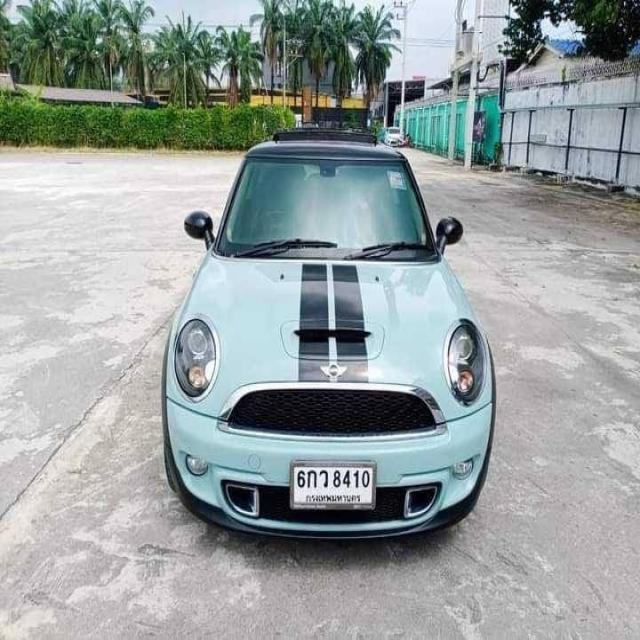license_plate: (289, 458, 377, 513)
